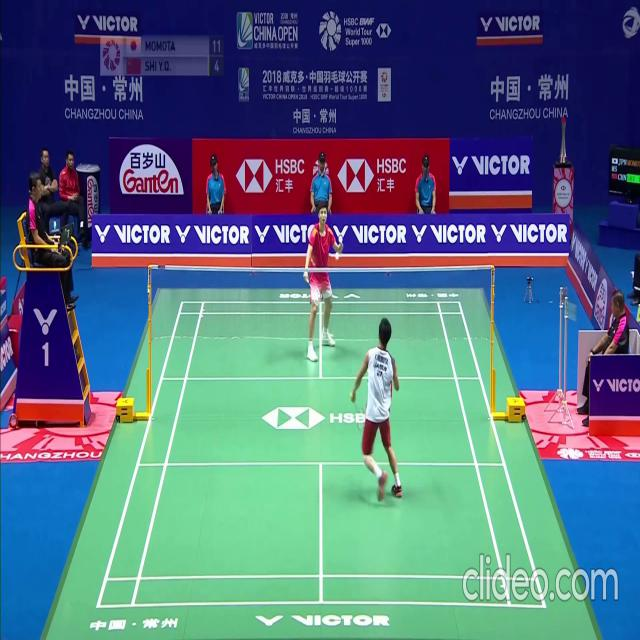Shuttlecock: (334, 253, 339, 260)
